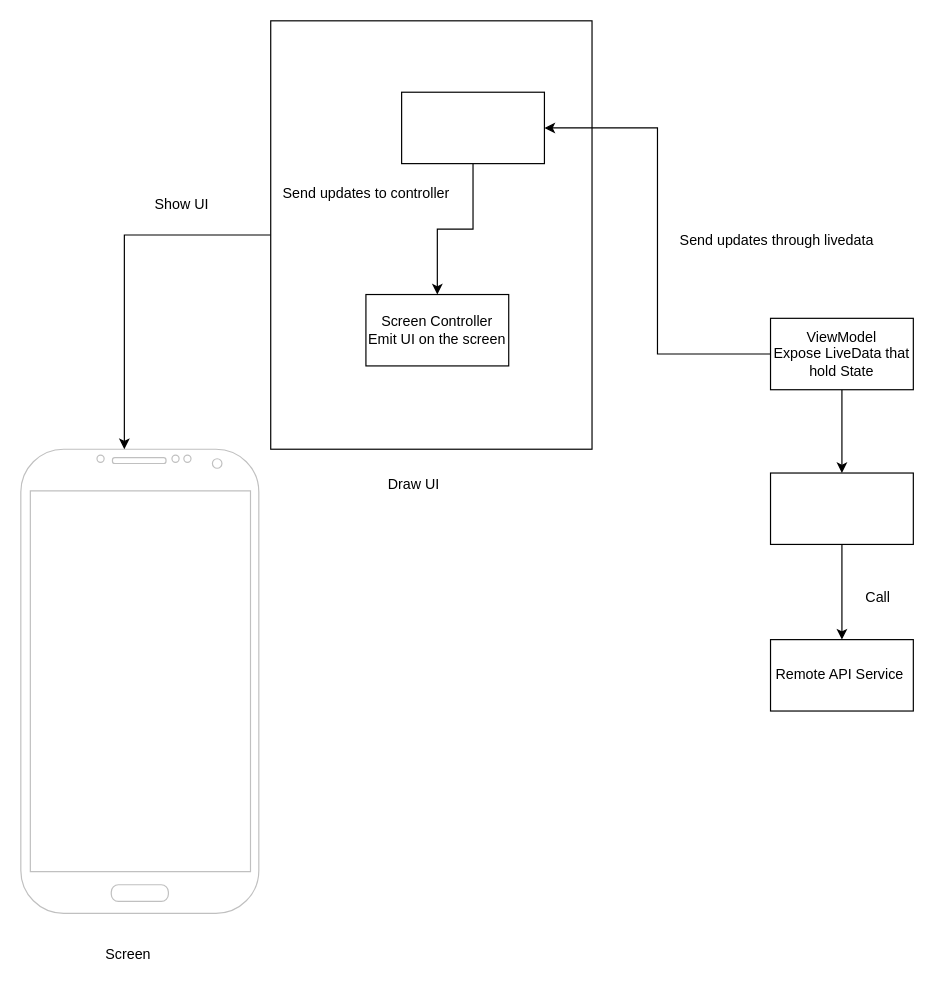
Some shapes in this 934 by 994 pixel diagram are drawn without their labels. The centre of each missing label's shape, as x and y in pixels:
"Fragment" goes at point 472,127.
"Use Case" goes at point 841,508.
